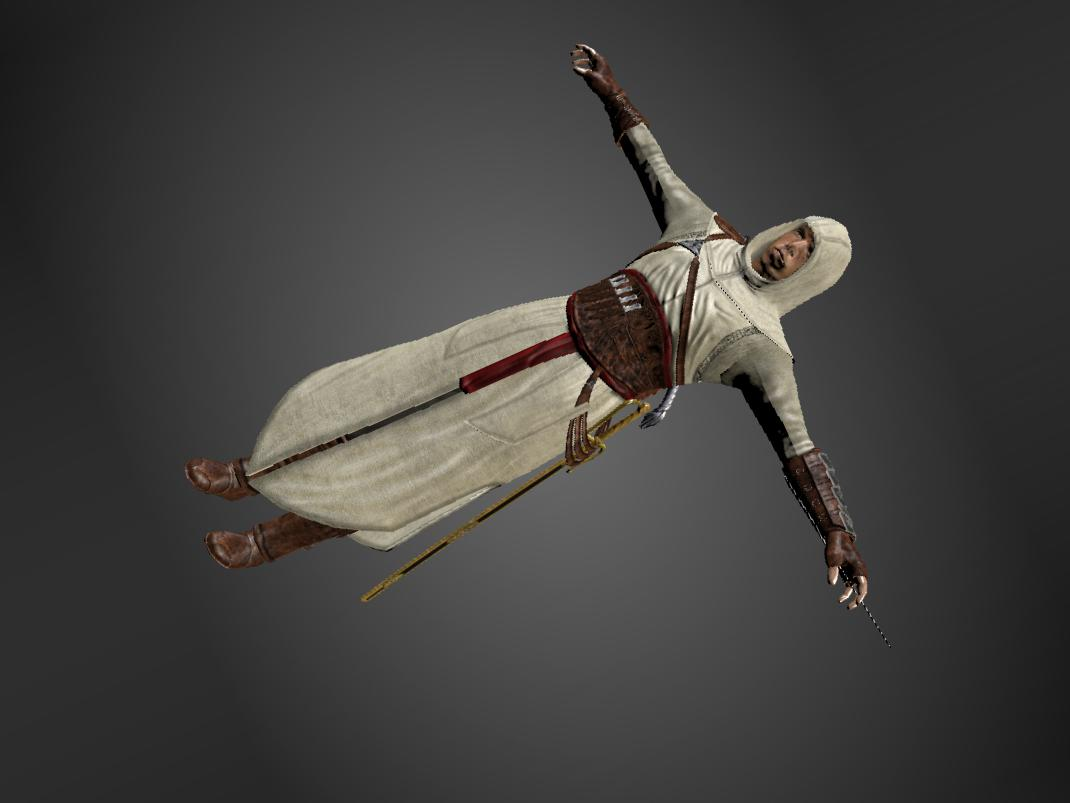clip: (564, 392, 598, 423)
